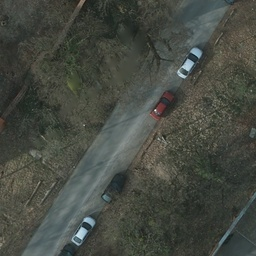car: (99, 171, 131, 203), (178, 46, 201, 79), (152, 90, 176, 121), (72, 216, 97, 245), (224, 0, 247, 2)
